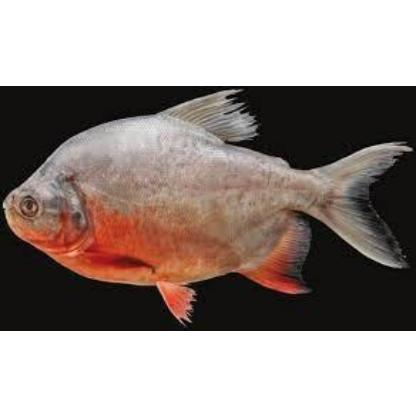ikan-pacu: (3, 86, 409, 322)
